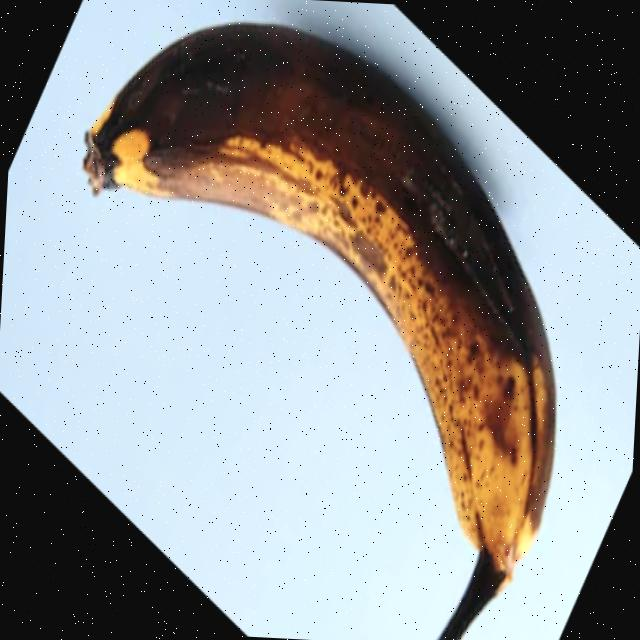overripe: (53, 5, 581, 640)
